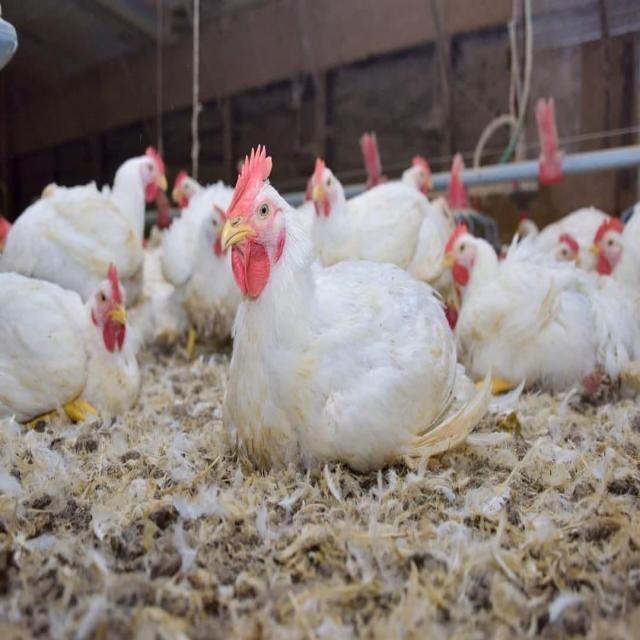Healthy: (203, 135, 494, 483)
